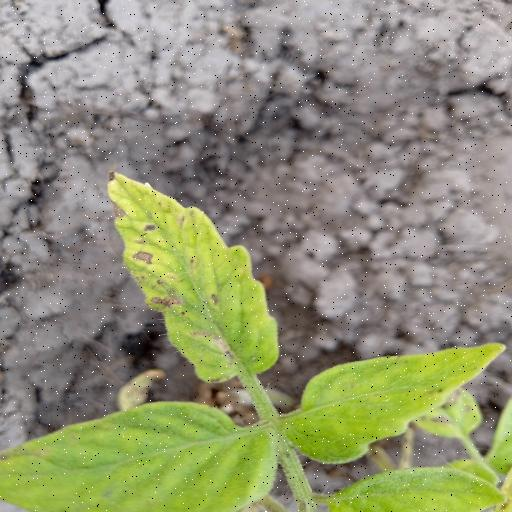Tomato_Brown_Spots: (102, 169, 284, 385), (0, 400, 283, 512), (283, 336, 509, 464)
